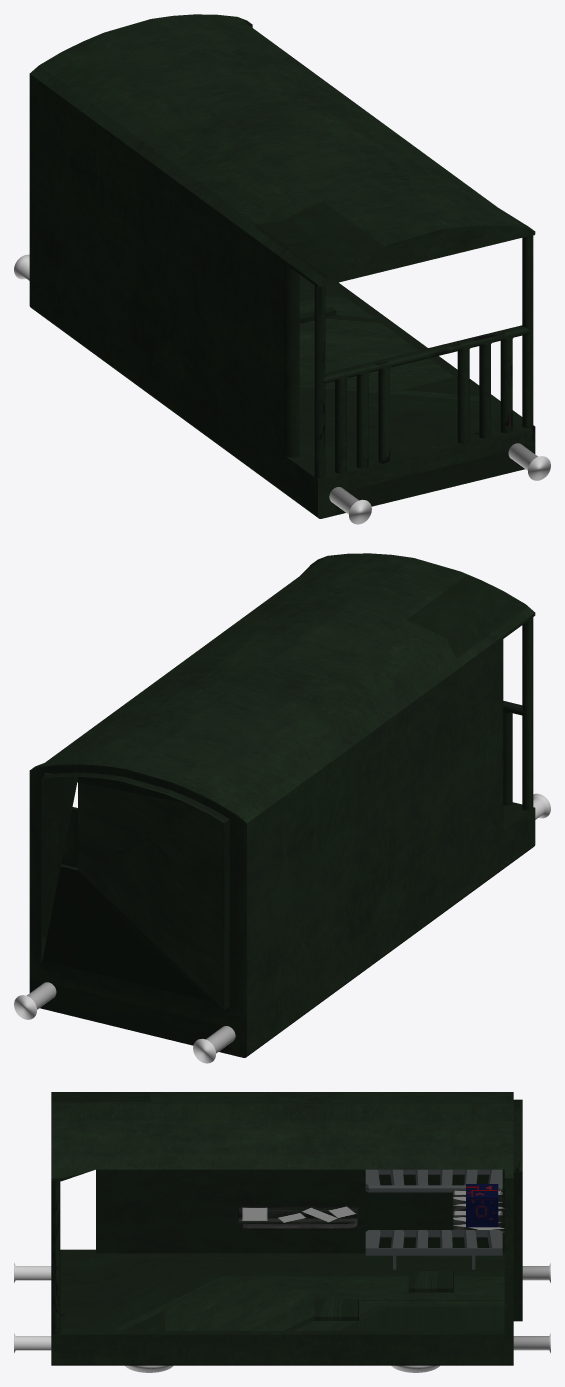
File: 1level.obj
3 views of the same model, one above another, from view 1: azimuth 30°, elevation 25°; view 2: azimuth 150°, elevation 25°; view 3: azimuth 270°, elevation 25° (orthographic). The views are drawn at different scales.
Parts seen in each view (by area): view 1: sciana, dach, podloga, drzwi; view 2: dach, sciana, drzwi, podloga; view 3: podloga, dach, sciana, Cube.004, drzwi, Cube.002, Cube.003, skrzynia1.002, Cube.006, Cube.005.
Boxes of the visible parts, <box> form: sciana: <box>35,78,533,478</box>; dach: <box>30,14,535,287</box>; podloga: <box>14,254,550,524</box>; drzwi: <box>29,23,249,272</box>; dach: <box>30,553,535,823</box>; sciana: <box>252,617,533,1014</box>; drzwi: <box>29,767,252,1018</box>; podloga: <box>14,793,550,1063</box>; podloga: <box>14,1249,550,1372</box>; dach: <box>51,1092,522,1181</box>; sciana: <box>51,1169,504,1334</box>; Cube.004: <box>365,1230,502,1269</box>; drzwi: <box>504,1153,522,1334</box>; Cube.002: <box>238,1206,357,1229</box>; Cube.003: <box>365,1169,502,1192</box>; skrzynia1.002: <box>466,1184,498,1227</box>; Cube.006: <box>452,1210,504,1232</box>; Cube.005: <box>452,1190,504,1210</box>.
Bounding box in the file's own units: 5.66 × 6.92 × 15.09.
